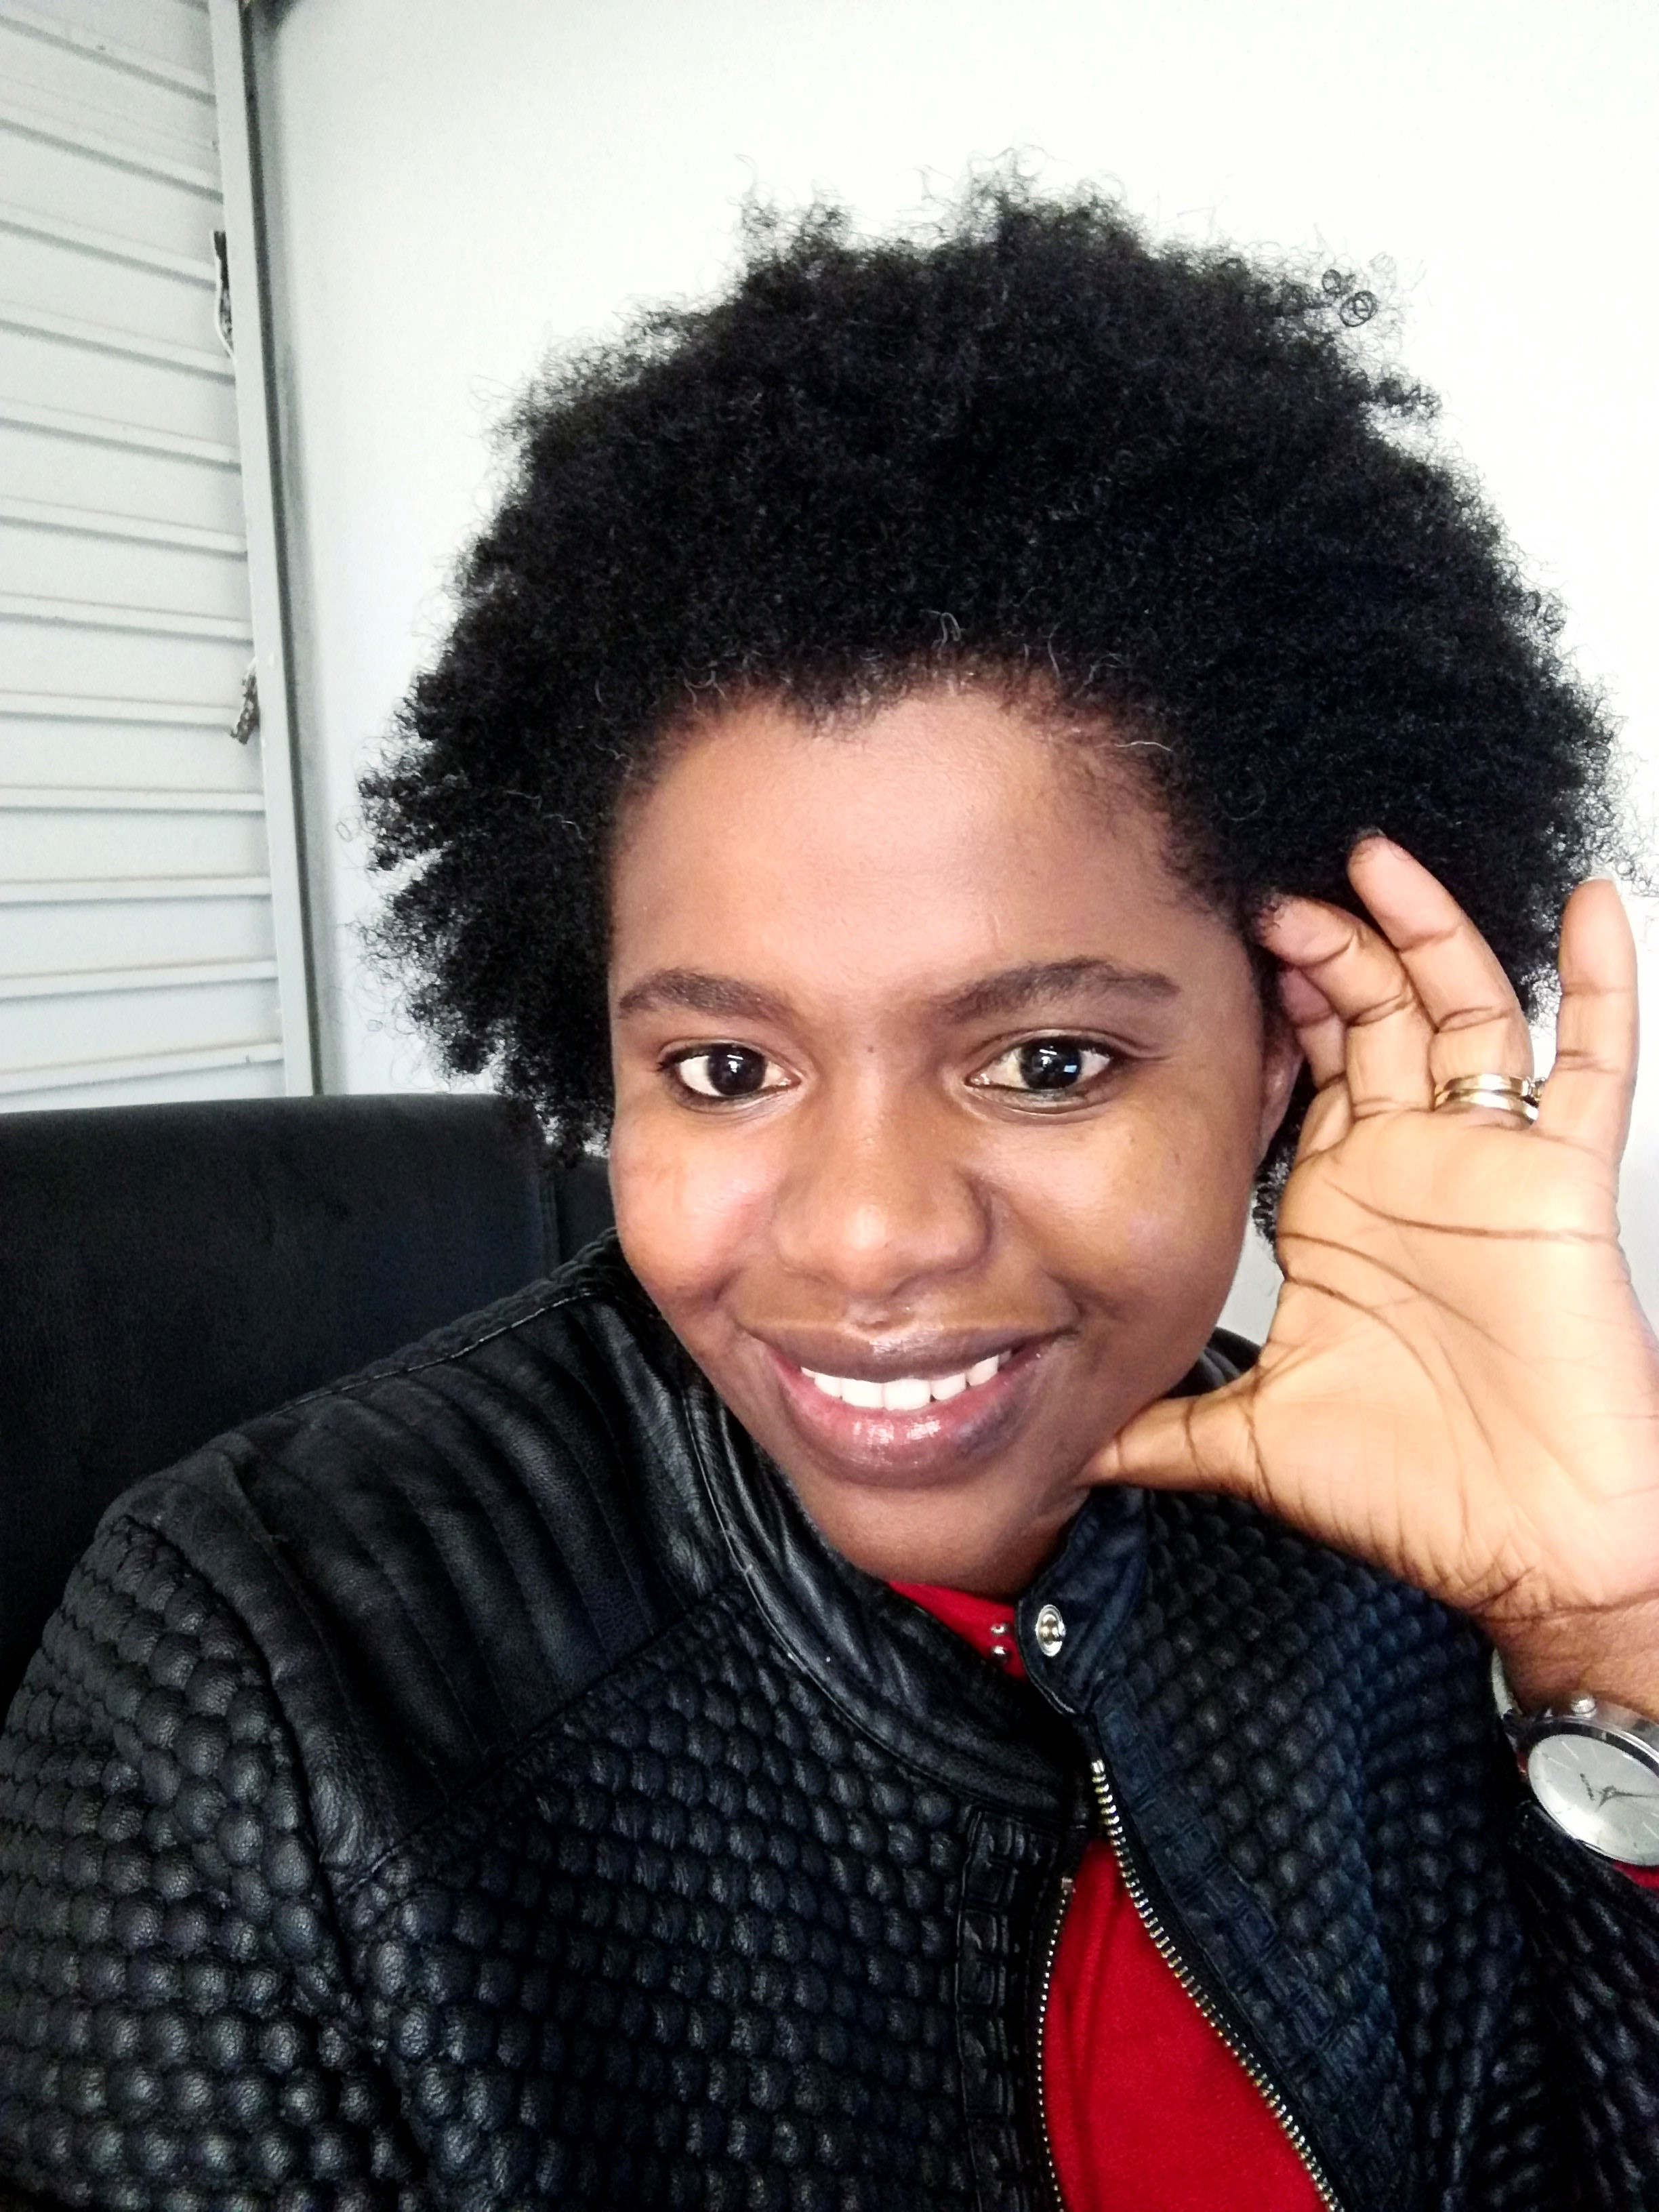face_no_mask: (508, 404, 1314, 1576)
